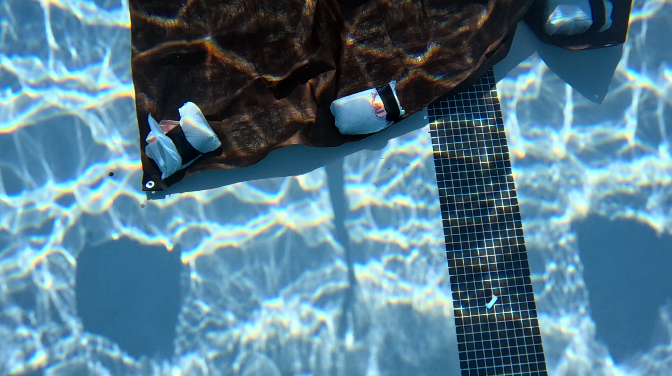sandbag: (129, 0, 632, 191)
